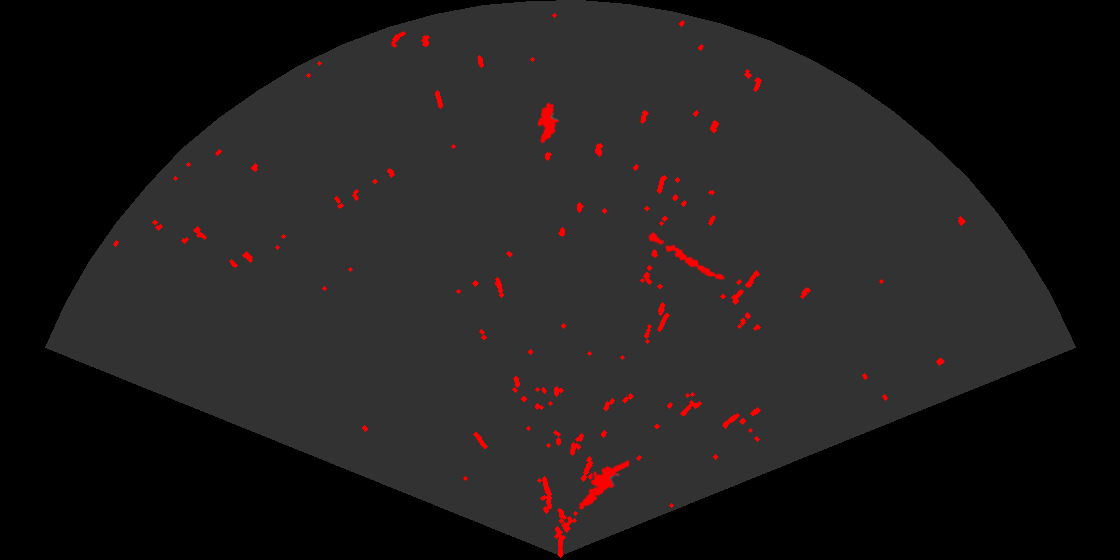AUV: (536, 101, 561, 145)
chain: (637, 225, 726, 282)
frogman: (577, 458, 629, 511)
